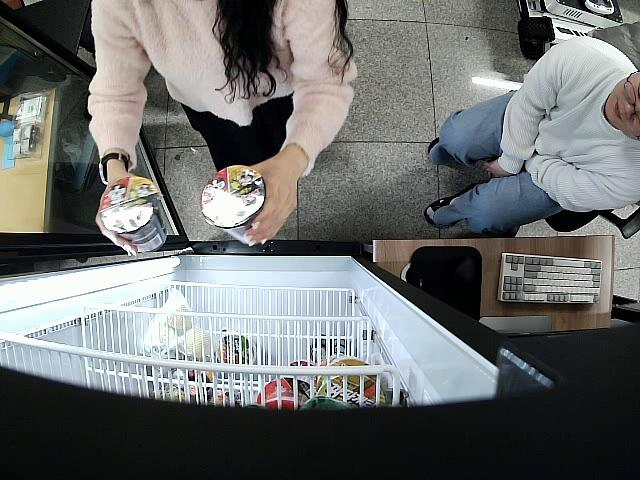00_hand: (245, 159, 297, 245), (96, 175, 140, 257)
08_buldak_S: (100, 176, 171, 251), (201, 165, 265, 245)
